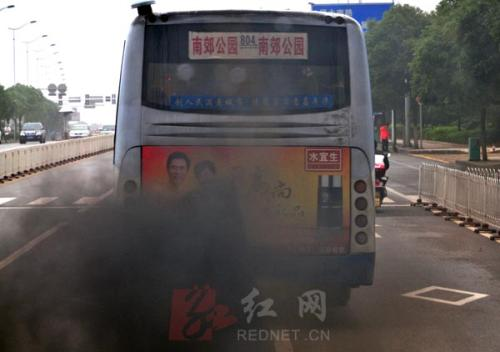smoke: (1, 187, 252, 352)
